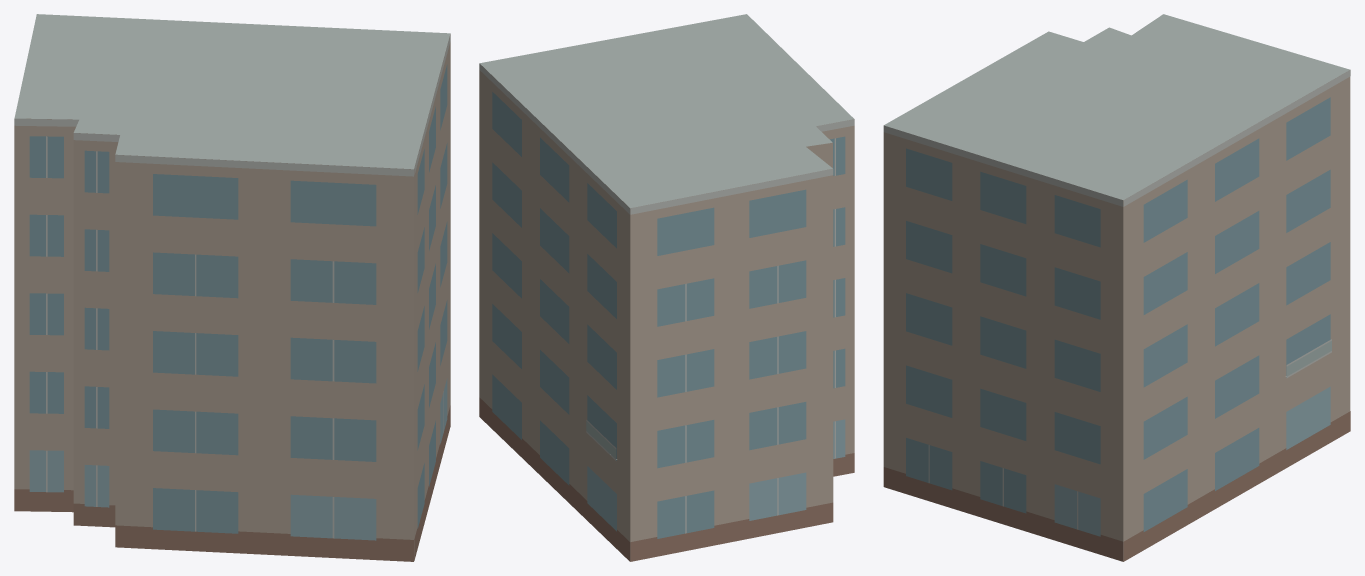
File: survey-upis-32889523.glb
3 renders of one model, left to right at view 1: azimuth 30°, elevation 25°; view 2: azimuth 150°, elevation 25°; view 3: azimuth 270°, elevation 25°, orthographic. The views are drawn at different scales.
Visible parts, largest first — view 1: survey-upis-32889523.tmp; view 2: survey-upis-32889523.tmp; view 3: survey-upis-32889523.tmp.
Boxes of the visible parts, x1,y1,x2,y2 form: survey-upis-32889523.tmp: (14, 14, 450, 561); survey-upis-32889523.tmp: (479, 14, 854, 561); survey-upis-32889523.tmp: (883, 14, 1350, 561).
Size of the model in its own units: 14.54 by 13.15 by 15.39.
